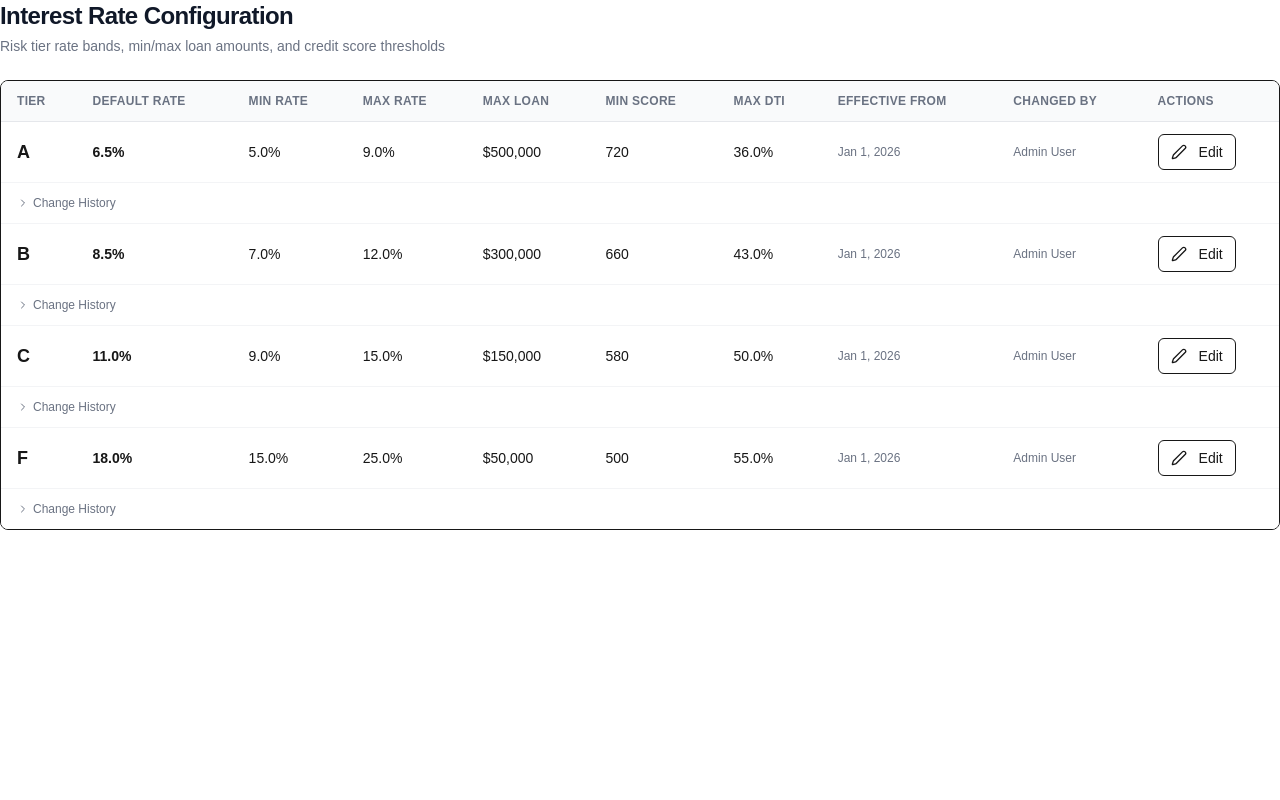
Test: InterestRatesPage › edit form for ADMIN › shows edit form when Edit button is clicked
Click the button "Edit" in the row of "6.5%" at (1197, 152), box [1158, 134, 1236, 170]
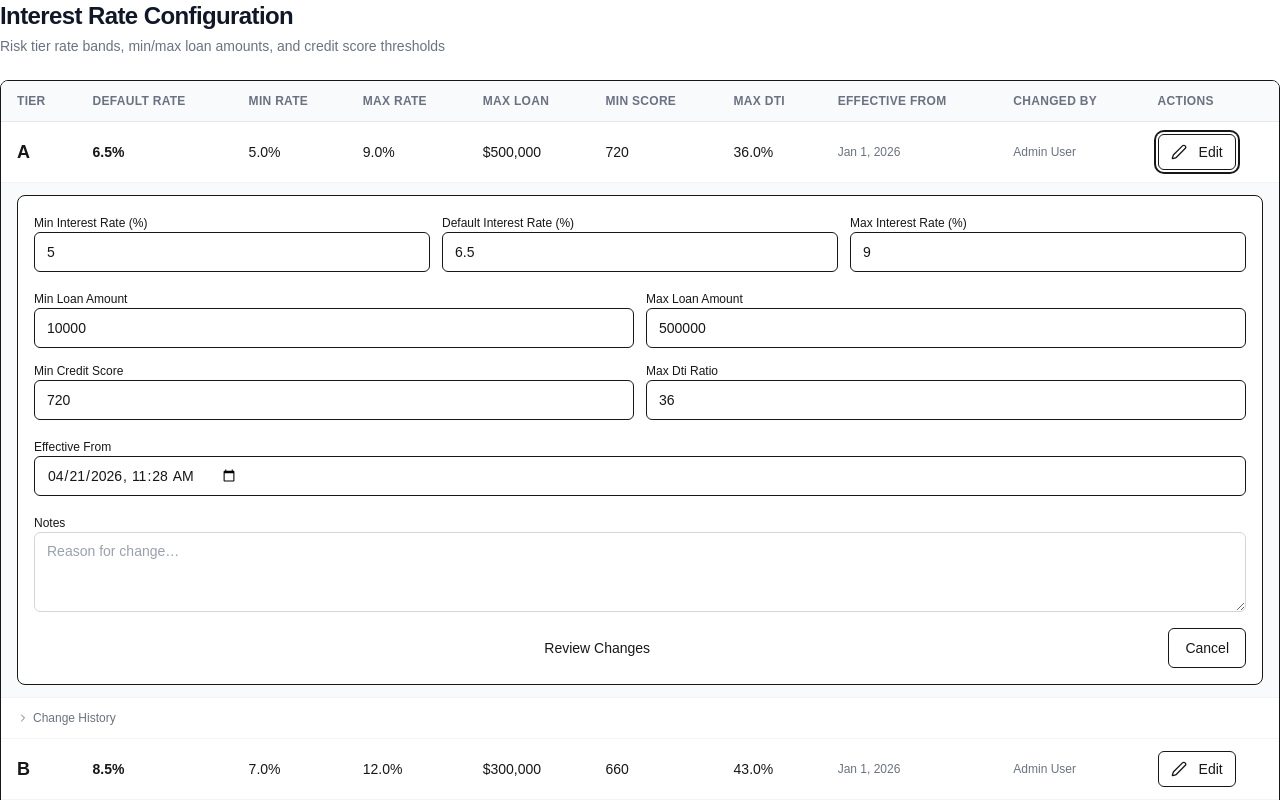
Check: the button "Review Changes" is shown, box [34, 628, 1160, 668]
